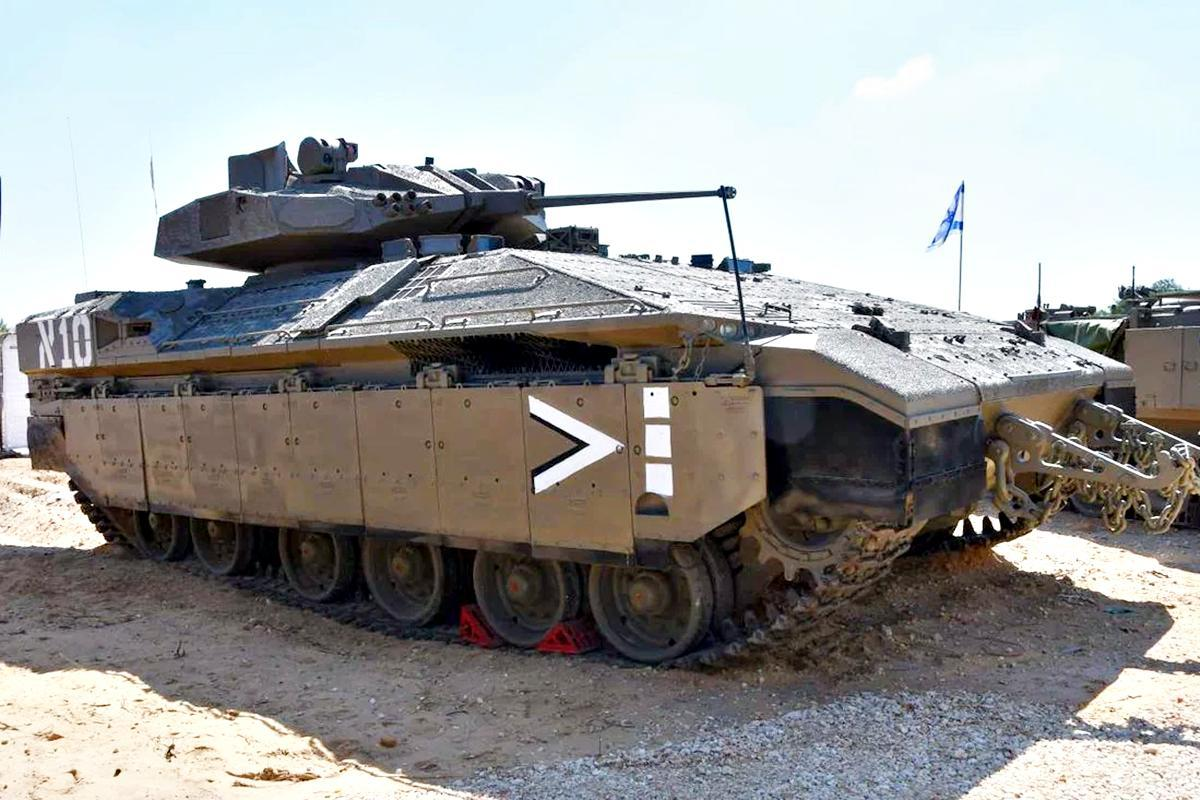MIL_IFV: (14, 135, 1135, 672)
